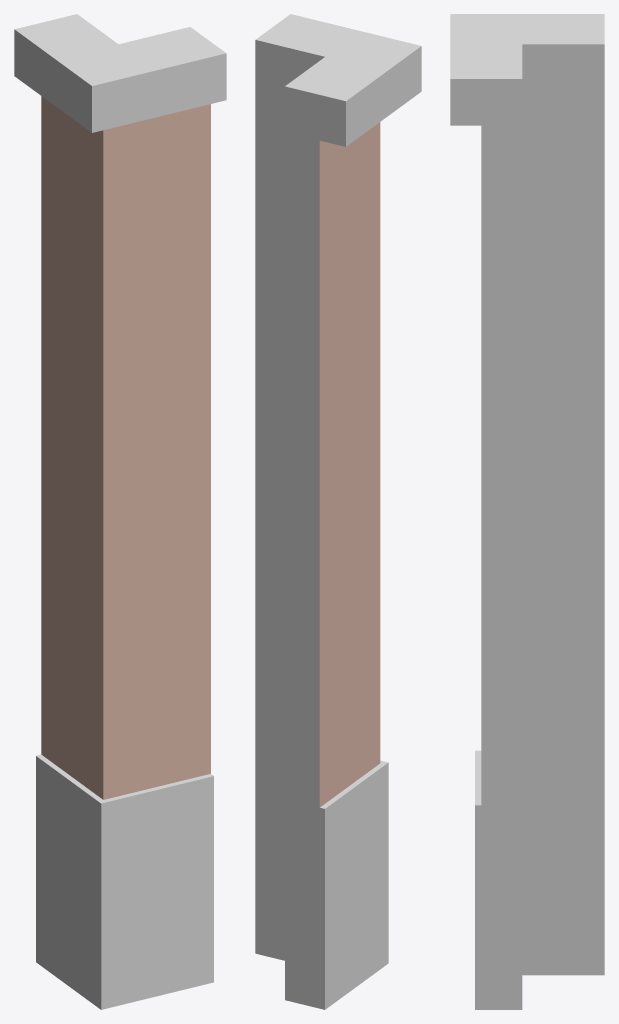
Rendered from Entrance_Wall_Corner_01.fbx.
The picture shows the model from 3 angles, left to right: view 1: azimuth 30°, elevation 25°; view 2: azimuth 150°, elevation 25°; view 3: azimuth 270°, elevation 25°; orthographic projection. The views are drawn at different scales.
Visible parts, largest first — view 1: Entrance_Wall_Corner_01; view 2: Entrance_Wall_Corner_01; view 3: Entrance_Wall_Corner_01.
Part boxes in pixels (bbox=[...]): Entrance_Wall_Corner_01: bbox=[14, 14, 226, 1009]; Entrance_Wall_Corner_01: bbox=[255, 14, 421, 1009]; Entrance_Wall_Corner_01: bbox=[450, 14, 604, 1009].
Size of the model in its own units: 0.75 by 5 by 0.75.
